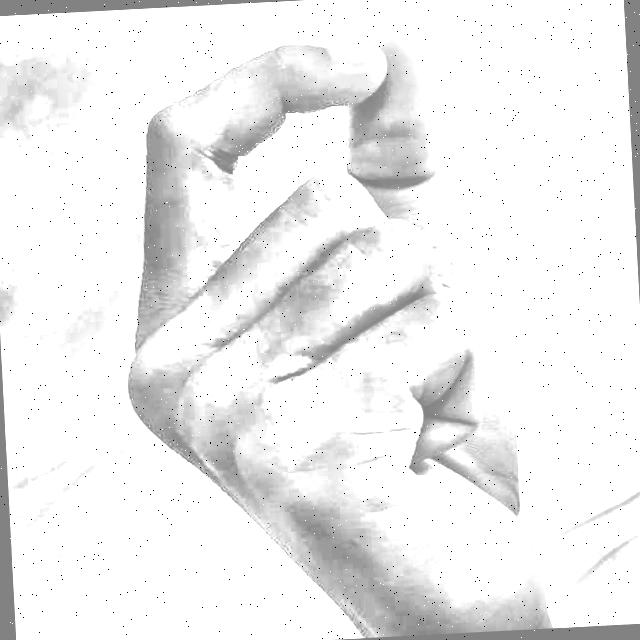Gha: (80, 16, 582, 640)
